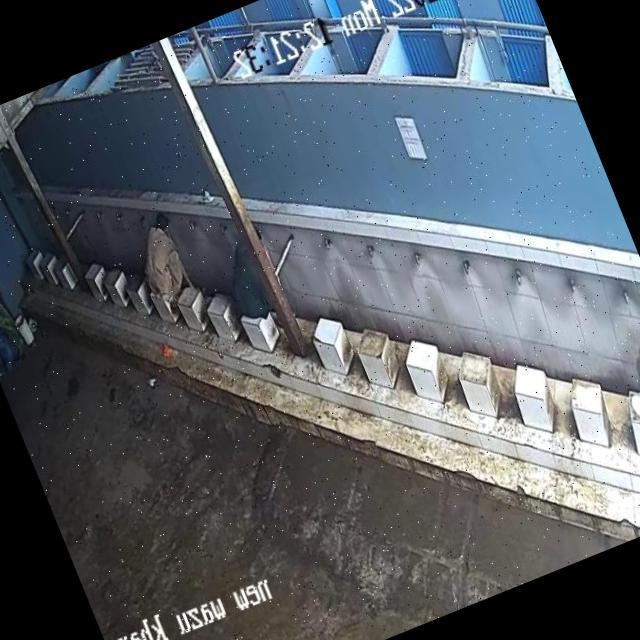person: (128, 210, 192, 298)
